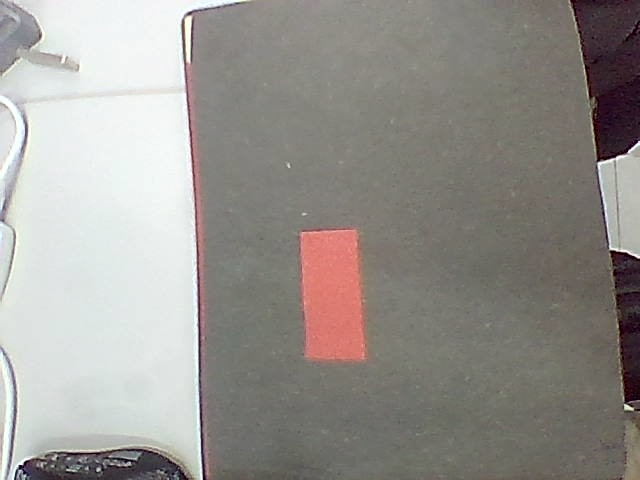card: (301, 229, 366, 360)
